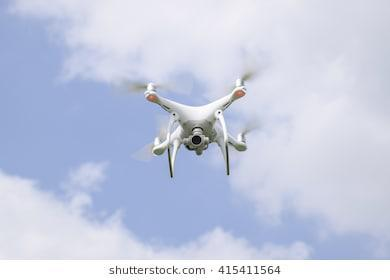drone: (143, 76, 248, 181)
